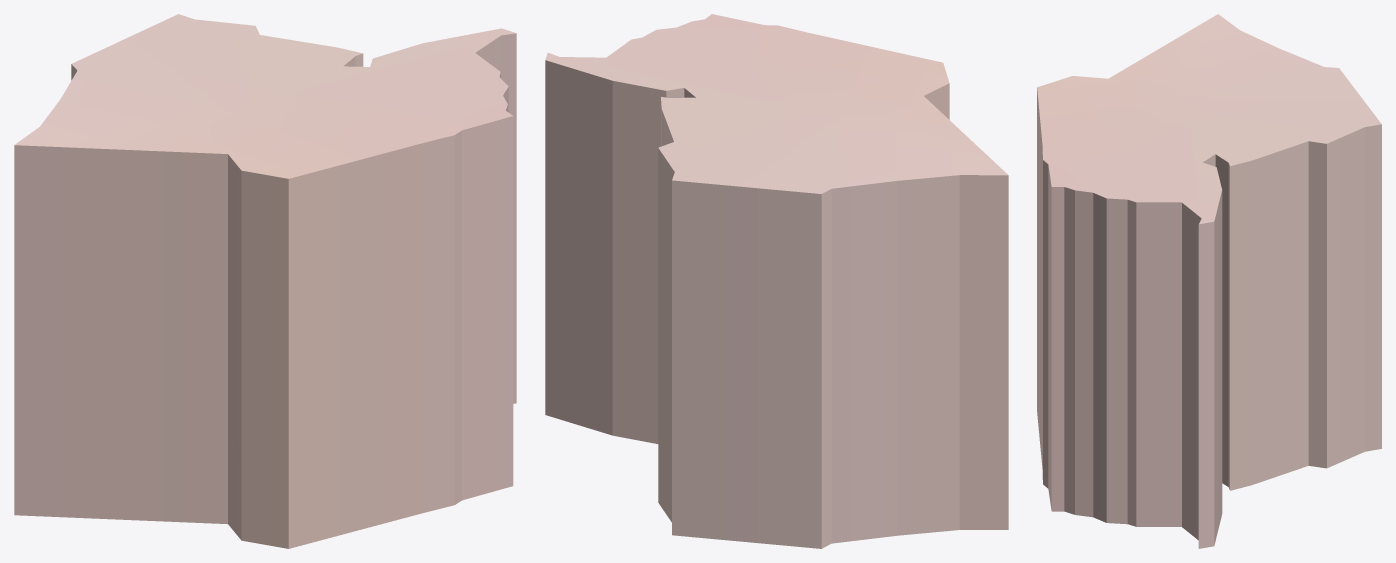
File: little silver.glb
The picture shows the model from 3 angles, left to right: view 1: azimuth 30°, elevation 25°; view 2: azimuth 150°, elevation 25°; view 3: azimuth 270°, elevation 25°; orthographic projection. The views are drawn at different scales.
Parts seen in each view (by area): view 1: Plane.034; view 2: Plane.034; view 3: Plane.034.
Boxes of the visible parts, x1,y1,x2,y2 form: Plane.034: [14, 14, 516, 548]; Plane.034: [545, 14, 1008, 548]; Plane.034: [1037, 14, 1381, 548].
Bounding box in the file's own units: 0.536 × 0.3856 × 0.3712.
Materials: 1 (1 with a texture image).
